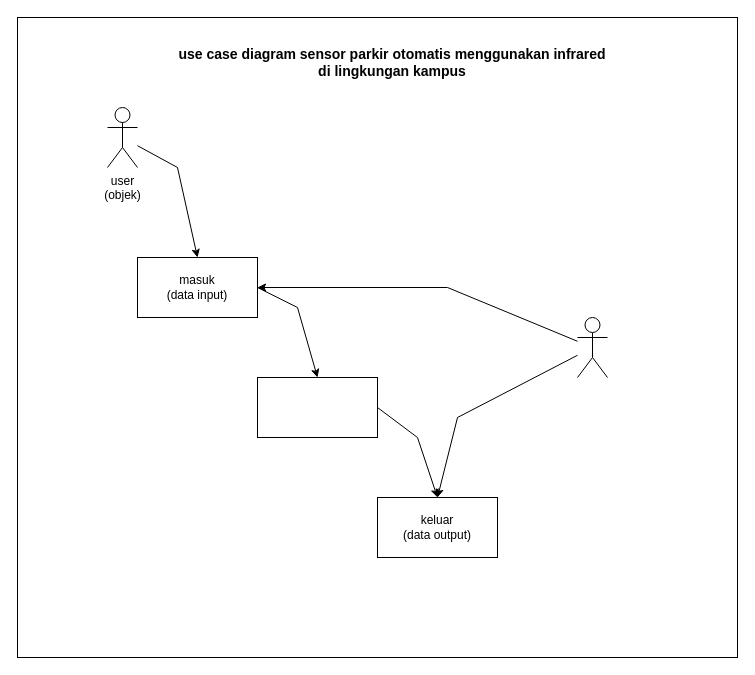
Some shapes in this 755 by 675 pixel diagram are drawn without their labels. Each missing label, with the centre of its shape:
parkir: point (317, 407)
satpam (petugas): point (592, 347)
